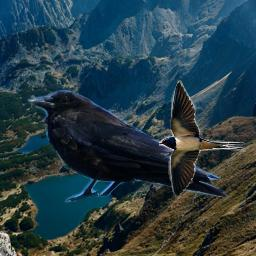Crow: (26, 90, 229, 203)
Swallow: (159, 80, 247, 199)
